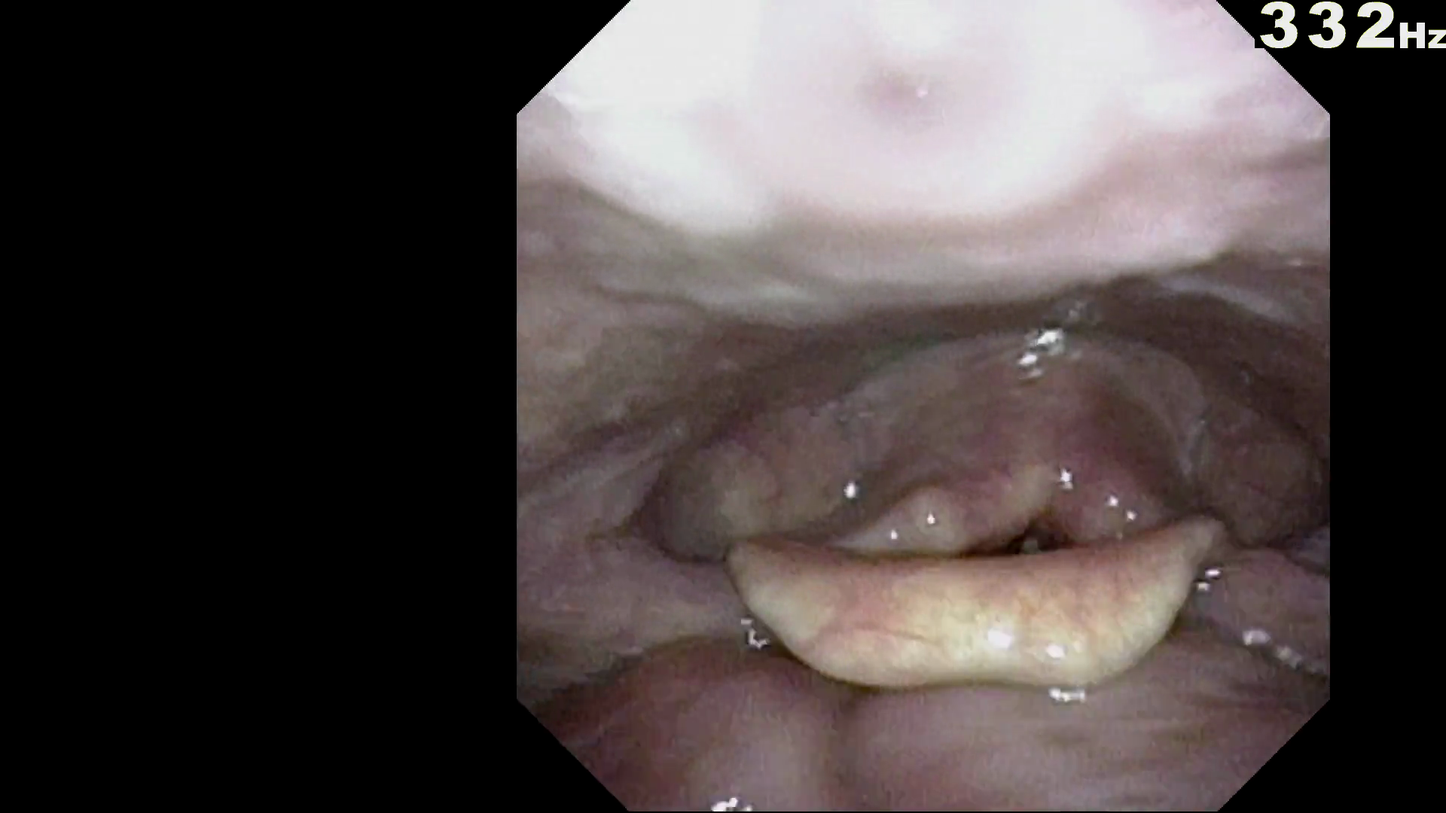epiglottis: (718, 529, 1260, 669)
trachea: (972, 485, 1097, 576)
